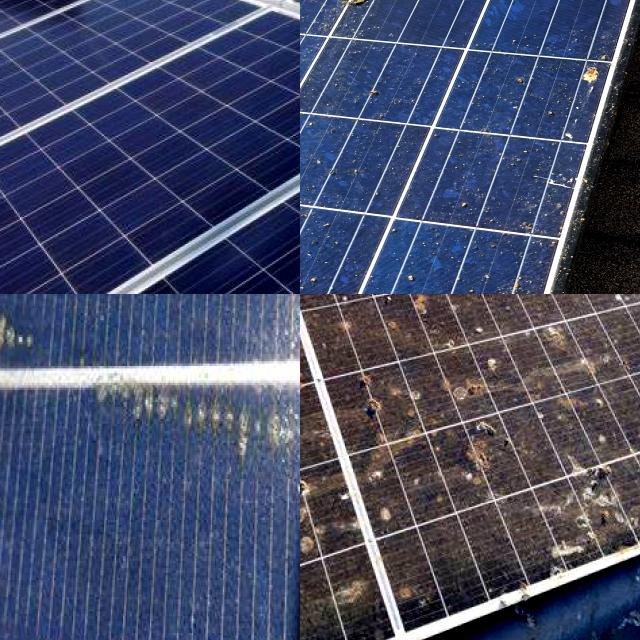bird: (524, 541, 640, 640), (363, 464, 433, 614), (543, 317, 640, 421), (344, 351, 439, 442), (445, 294, 533, 385), (563, 442, 640, 533), (546, 45, 634, 120), (349, 294, 503, 336), (454, 400, 544, 466), (300, 533, 351, 640), (300, 294, 364, 373), (300, 0, 410, 38), (300, 472, 350, 554), (324, 294, 407, 341), (300, 294, 365, 343), (300, 403, 340, 467), (300, 127, 344, 185), (481, 294, 548, 328), (300, 598, 347, 640), (600, 294, 640, 335), (300, 294, 337, 329)
crack: (0, 0, 300, 294), (33, 0, 300, 239)
shadow: (101, 322, 300, 539), (0, 294, 54, 372), (0, 294, 26, 385)
